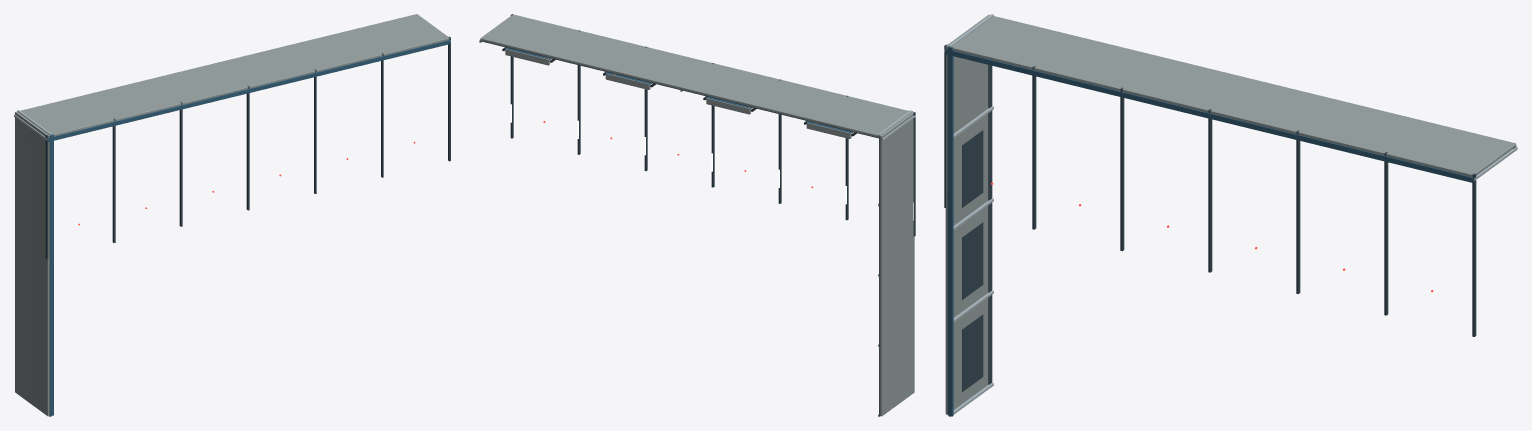
File: hero_warehouse_shell.glb
3 views of the same model, side by side, from view 1: azimuth 30°, elevation 25°; view 2: azimuth 150°, elevation 25°; view 3: azimuth 330°, elevation 25° (orthographic). The views are drawn at different scales.
Parts seen in each view (by area): view 1: Rear wall structural base, Left wall structural base, Roof edge beam rear, Roof edge beam side, Overhead beam, Overhead beam.002, Overhead beam.001, Overhead beam.003; view 2: Rear wall structural base, Left wall structural base, Rear wall dark plinth; view 3: Rear wall structural base, Left wall structural base, Roof edge beam rear, Roof edge beam side, Left wall dark plinth, Wall lateral inset, Wall lateral inset.001, Wall lateral inset.002, Overhead beam.006, Overhead beam.002, Overhead beam.004, Overhead beam.003 (+2 smaller).
Boxes of the visible parts, left/top/right/bottom form: Rear wall structural base: left=15, top=14, right=449, bottom=136; Left wall structural base: left=15, top=111, right=49, bottom=416; Roof edge beam rear: left=47, top=40, right=450, bottom=141; Roof edge beam side: left=49, top=134, right=53, bottom=416; Overhead beam: left=45, top=135, right=48, bottom=259; Overhead beam.002: left=179, top=102, right=182, bottom=226; Overhead beam.001: left=112, top=118, right=115, bottom=242; Overhead beam.003: left=246, top=86, right=249, bottom=210; Rear wall structural base: left=480, top=14, right=913, bottom=137; Left wall structural base: left=879, top=112, right=914, bottom=416; Rear wall dark plinth: left=480, top=40, right=881, bottom=138; Rear wall structural base: left=946, top=16, right=1516, bottom=177; Left wall structural base: left=945, top=14, right=989, bottom=414; Roof edge beam rear: left=945, top=49, right=1473, bottom=182; Roof edge beam side: left=947, top=46, right=953, bottom=416; Left wall dark plinth: left=988, top=65, right=992, bottom=384; Wall lateral inset: left=962, top=314, right=983, bottom=391; Wall lateral inset.001: left=962, top=222, right=983, bottom=299; Wall lateral inset.002: left=962, top=130, right=983, bottom=207; Overhead beam.006: left=1472, top=173, right=1476, bottom=336; Overhead beam.002: left=1120, top=87, right=1124, bottom=251; Overhead beam.004: left=1296, top=130, right=1300, bottom=293; Overhead beam.003: left=1208, top=109, right=1212, bottom=272.
Bounding box in the file's own units: 60.28 × 40.28 × 8.59.
